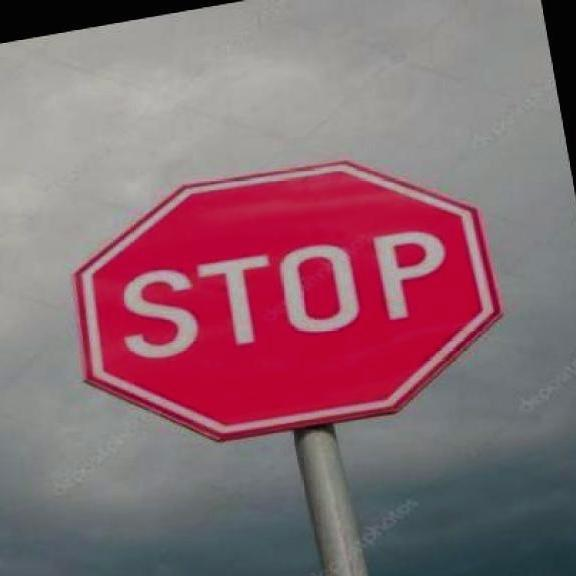stop_sign: (60, 134, 515, 466)
